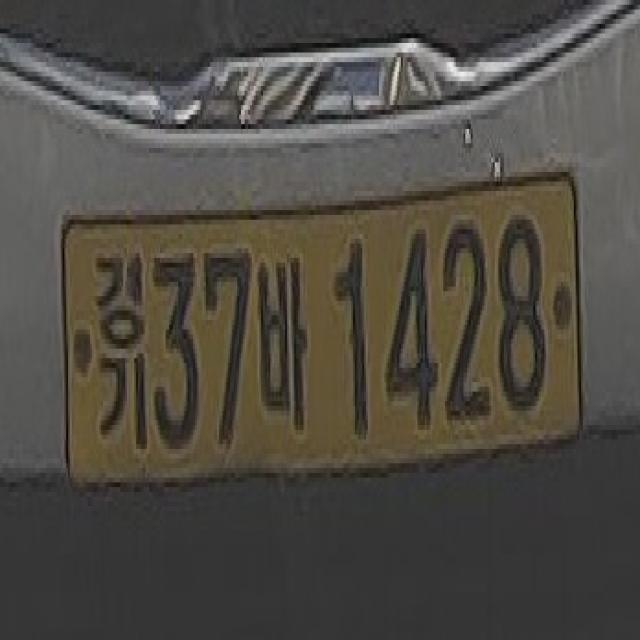plat: (60, 168, 584, 487)
